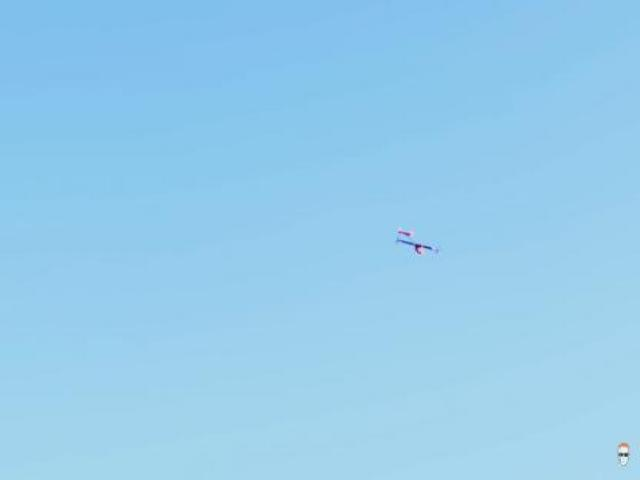uav: (398, 222, 436, 263)
